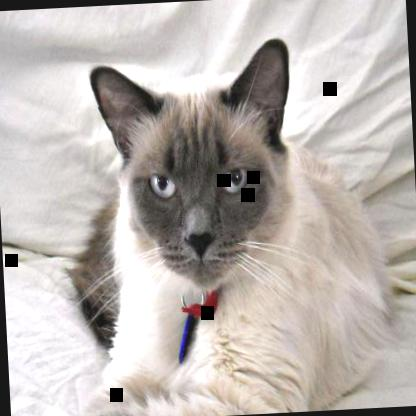cat: (0, 31, 397, 415)
